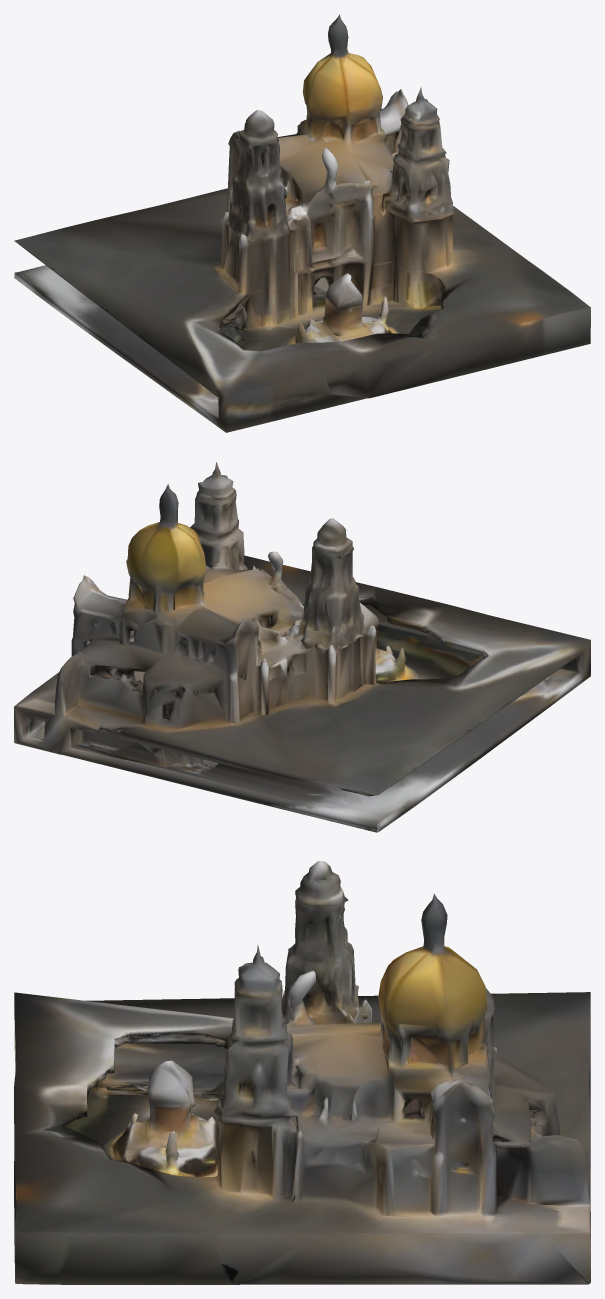
Rendered from landmark-catedral.glb.
3 renders of one model, top to bottom at view 1: azimuth 30°, elevation 25°; view 2: azimuth 150°, elevation 25°; view 3: azimuth 270°, elevation 25°, orthographic. The views are drawn at different scales.
Size of the model in its own units: 1.99 by 1.26 by 2.
1 material, 1 textured.
